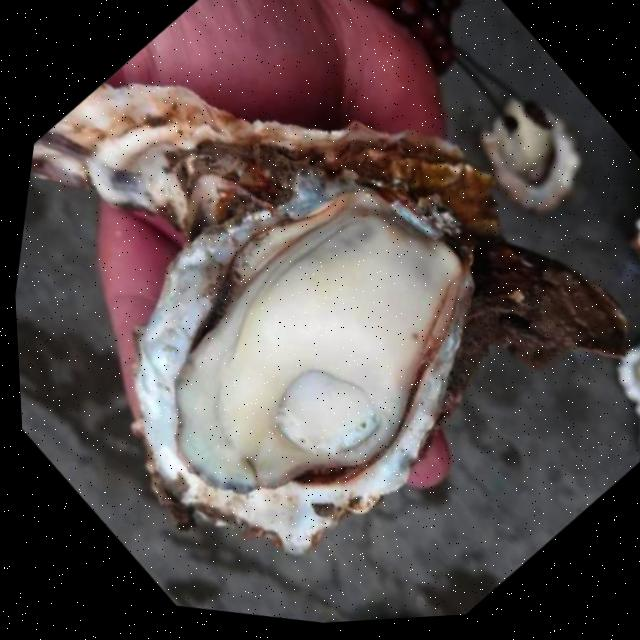Oyster-Indeterminate: (30, 83, 623, 397)
Oyster-Open: (91, 144, 502, 571)
